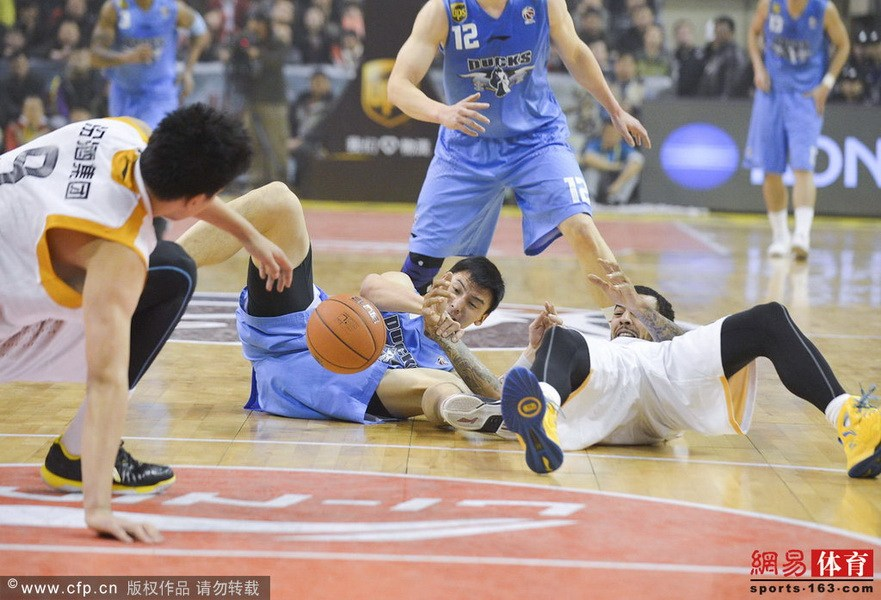10+: (1, 3, 881, 551)
down: (420, 246, 877, 496), (145, 177, 524, 451)
